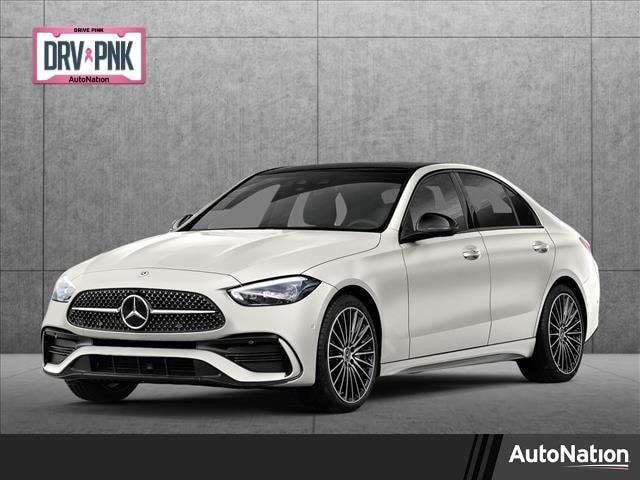benz: (39, 160, 601, 410)
